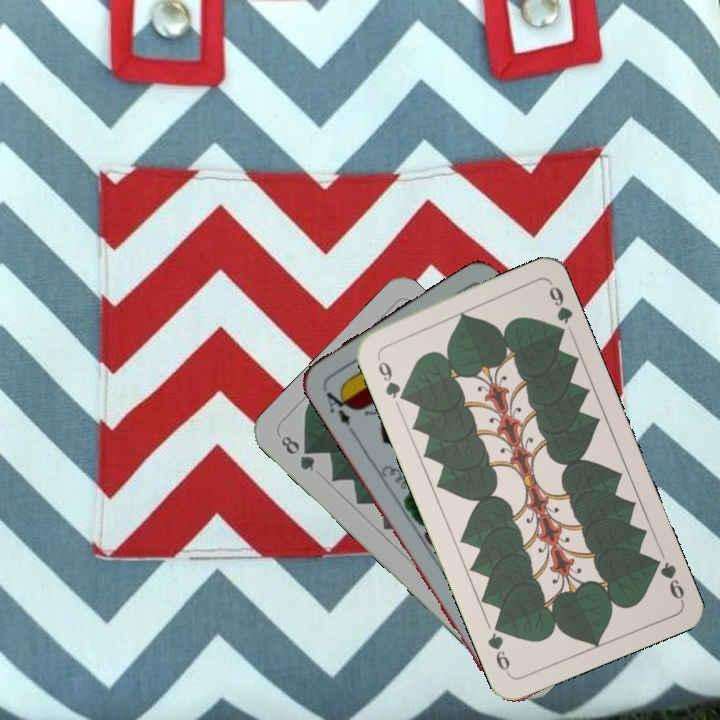EA: (319, 383, 356, 429)
G8: (276, 432, 318, 474)
G9: (646, 552, 687, 604), (372, 351, 410, 404)
